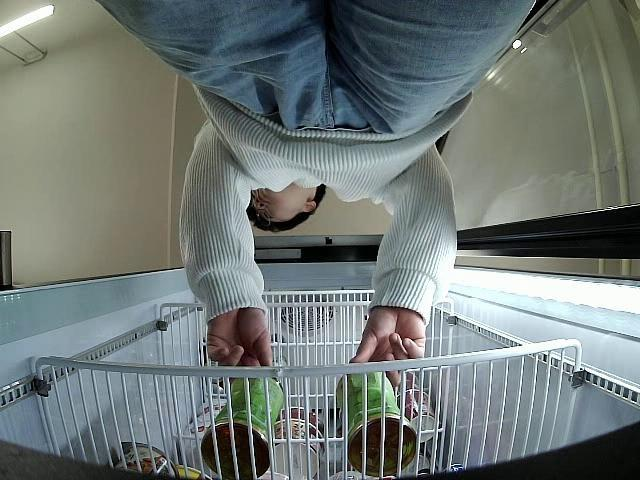19_17cha: (201, 368, 285, 480), (335, 360, 415, 476)
